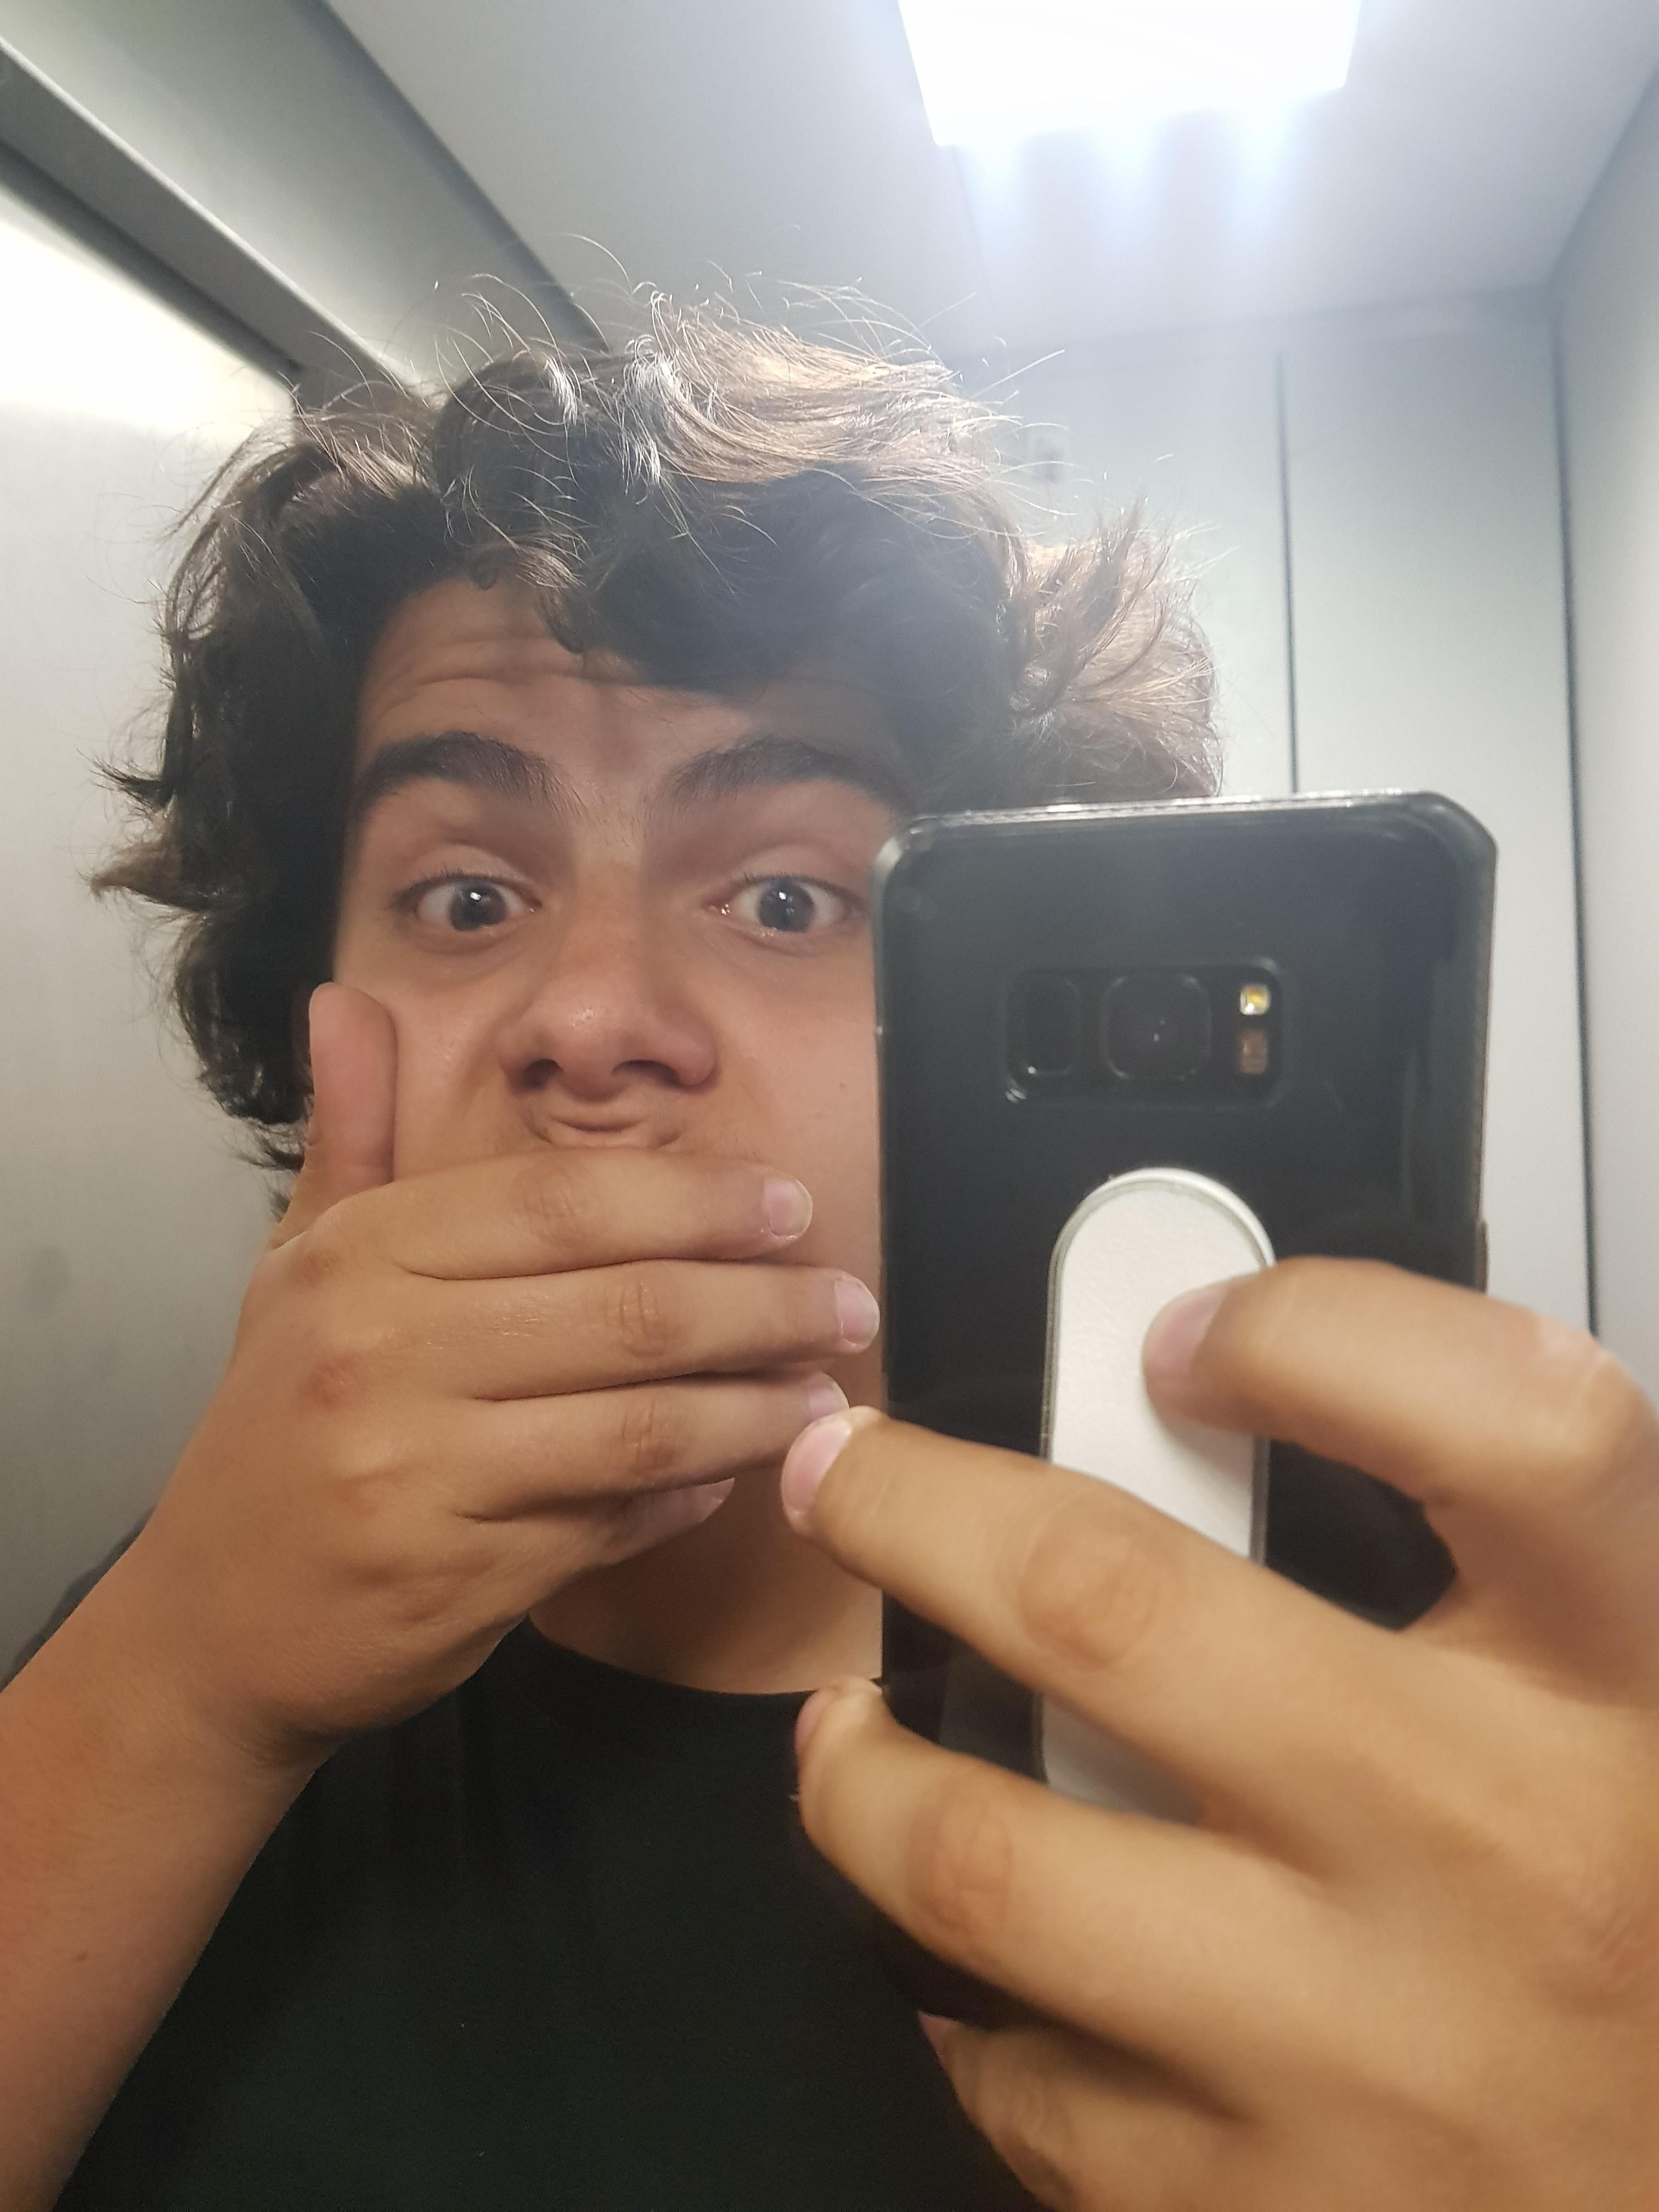face_no_mask: (275, 367, 1093, 1533)
